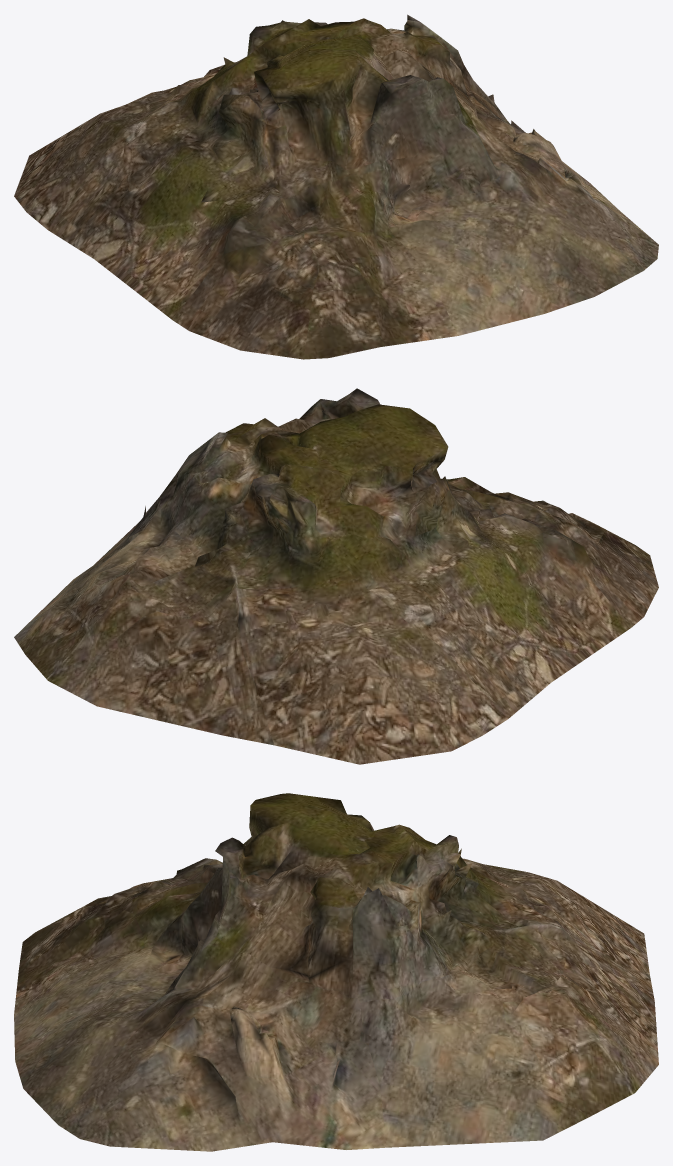
File: tree_stump_01.glb
3 views of the same model, one above another, from view 1: azimuth 30°, elevation 25°; view 2: azimuth 150°, elevation 25°; view 3: azimuth 270°, elevation 25° (orthographic). The views are drawn at different scales.
Visible parts, largest first — view 1: tree_stump_01; view 2: tree_stump_01; view 3: tree_stump_01.
Boxes of the visible parts, <box> form: tree_stump_01: <box>14,14,658,359</box>; tree_stump_01: <box>14,388,658,764</box>; tree_stump_01: <box>14,793,658,1151</box>.
Bounding box in the file's own units: 1.43 × 0.571 × 1.59.
1 material, 1 textured.
